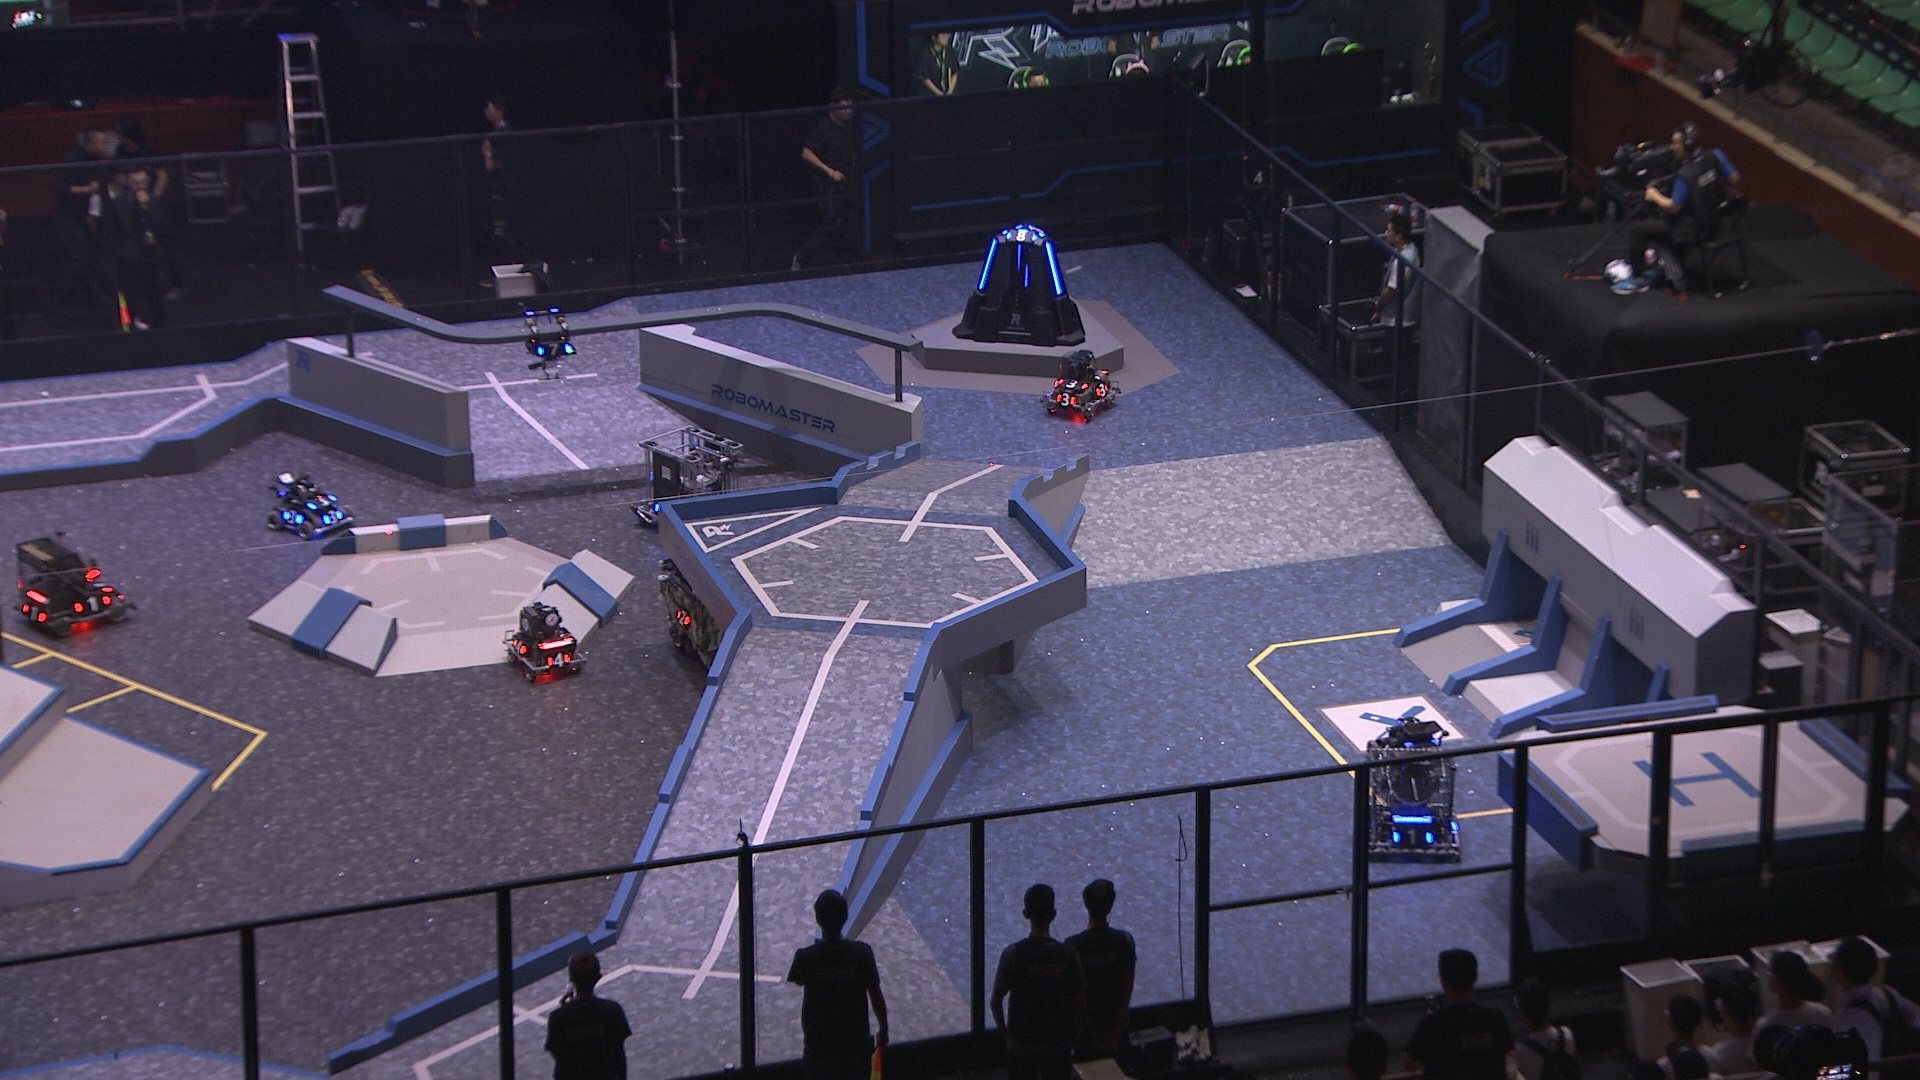armor: (978, 239, 997, 294), (1044, 243, 1062, 301), (1395, 825, 1433, 847), (533, 339, 574, 357), (76, 597, 112, 615), (21, 600, 46, 622), (306, 489, 334, 509), (546, 651, 572, 669), (1005, 228, 1035, 243), (281, 506, 302, 526), (510, 636, 527, 659), (323, 506, 342, 527), (88, 576, 109, 595), (1060, 378, 1091, 390), (1093, 381, 1112, 400), (1013, 240, 1022, 276), (1058, 392, 1077, 407), (673, 607, 688, 626)
base: (953, 220, 1088, 352)
car: (1357, 738, 1466, 861), (651, 559, 766, 675), (632, 419, 746, 535), (11, 533, 135, 637), (502, 603, 588, 684), (266, 469, 356, 538), (1043, 349, 1117, 427), (1375, 716, 1458, 767)
watcher: (526, 306, 578, 372)
